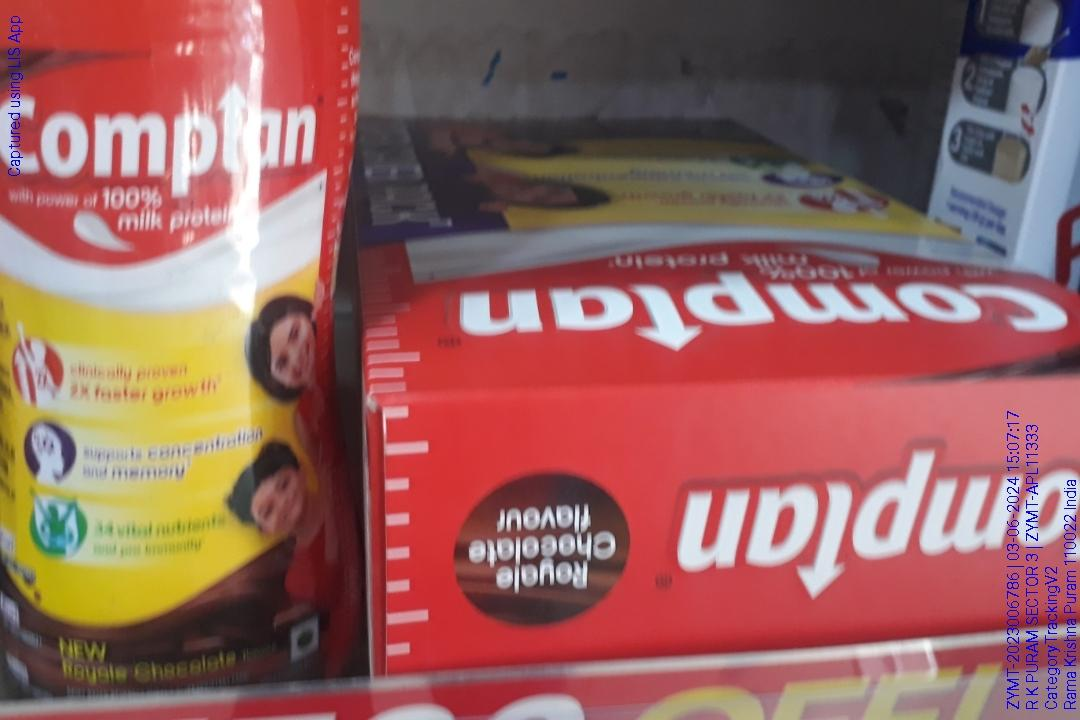COMPLAN_CHOCOLATE_200_GMS_JAR: (0, 0, 364, 686)
